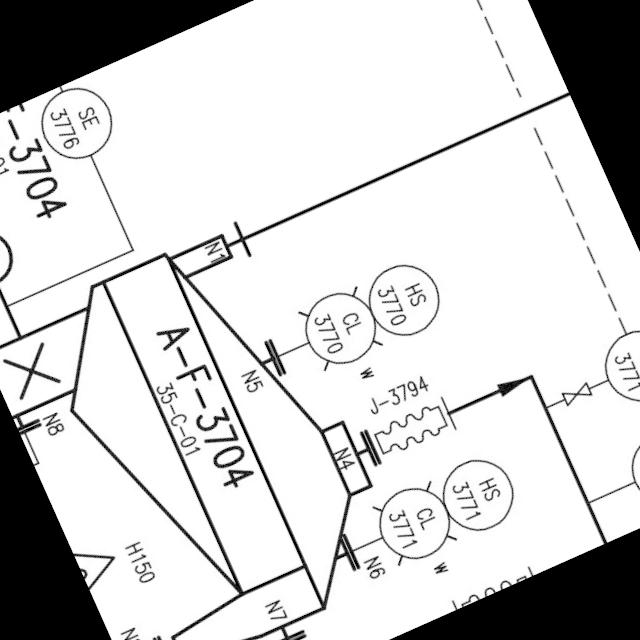A2: (0, 208, 421, 640)
EJ: (361, 384, 466, 468)
GV: (556, 374, 600, 409)
RVM: (0, 128, 30, 297)
